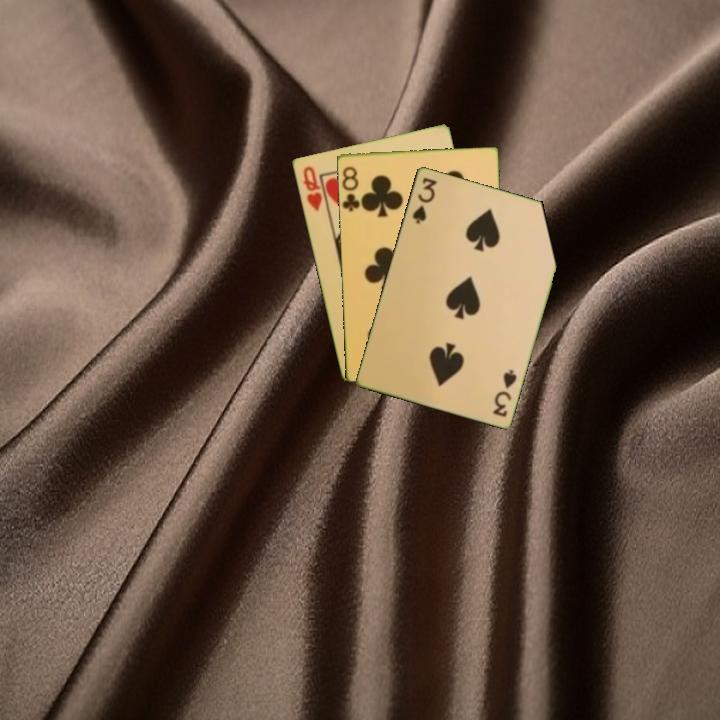3s: (408, 174, 440, 226), (489, 365, 519, 419)
8c: (339, 163, 365, 214)
Qh: (299, 162, 325, 215)
